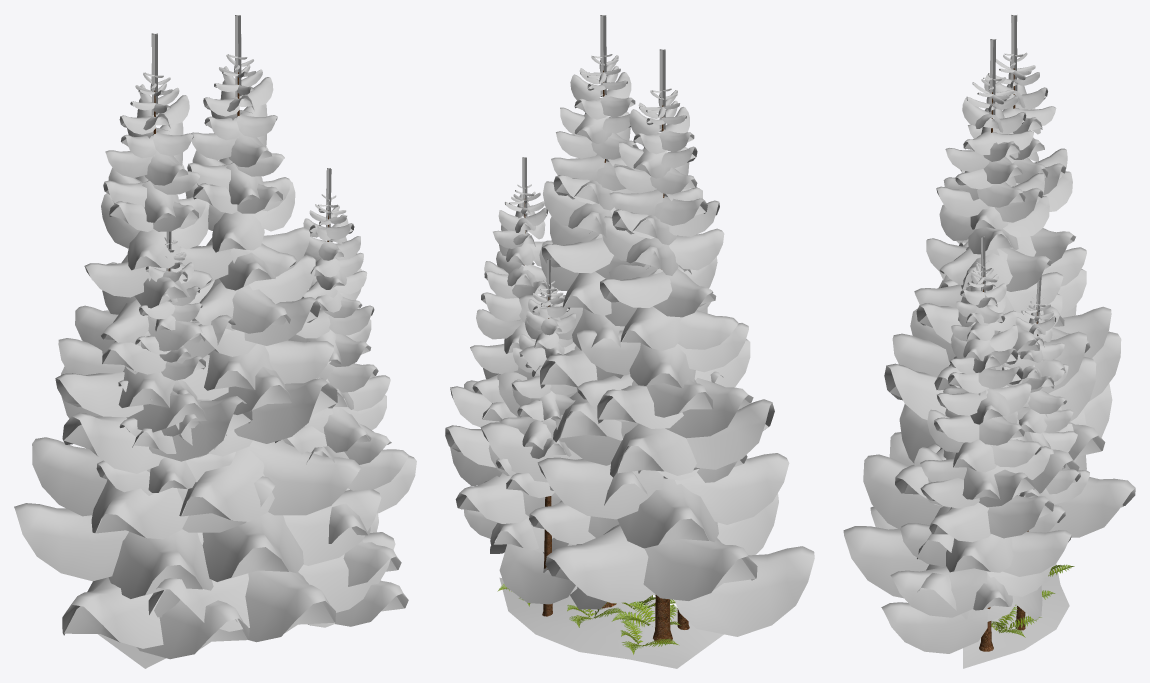
File: foliageprefab_openpar001.fbx
The picture shows the model from 3 angles, left to right: view 1: azimuth 30°, elevation 25°; view 2: azimuth 150°, elevation 25°; view 3: azimuth 270°, elevation 25°; orthographic projection. The views are drawn at different scales.
Visible parts, largest first — view 1: polySurface3; view 2: polySurface3; view 3: polySurface3.
Part boxes in pixels (<box>): polySurface3: <box>14,15,416,668</box>; polySurface3: <box>445,15,814,668</box>; polySurface3: <box>843,15,1135,668</box>.
Size of the model in its own units: 617 by 1018 by 469.
